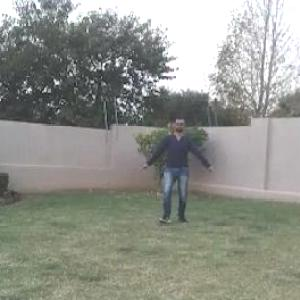land: (134, 101, 219, 238)
